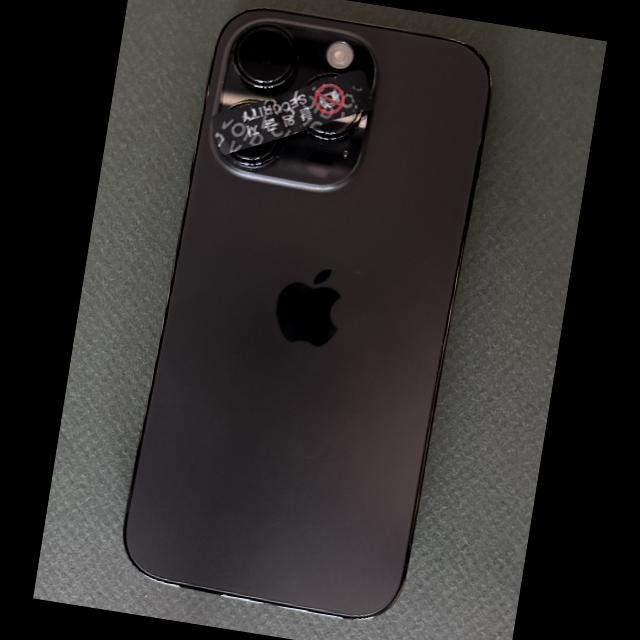lens: (233, 23, 297, 89), (227, 138, 285, 168), (308, 113, 362, 140)
phone: (123, 7, 494, 620)
sticker: (211, 70, 375, 155)
